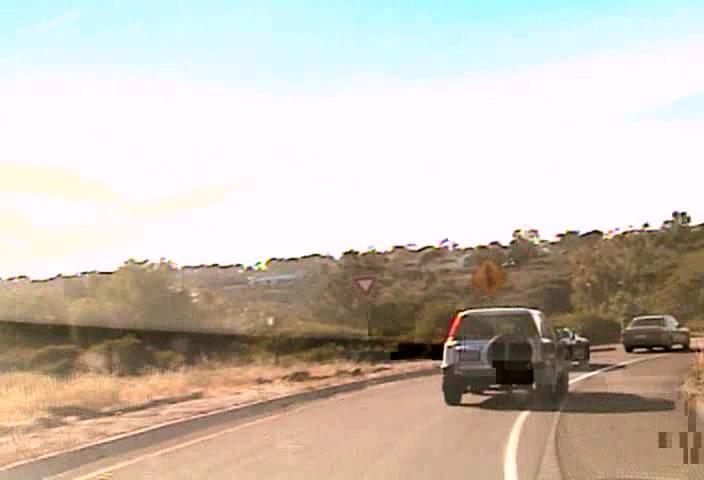yield: (350, 272, 377, 297)
